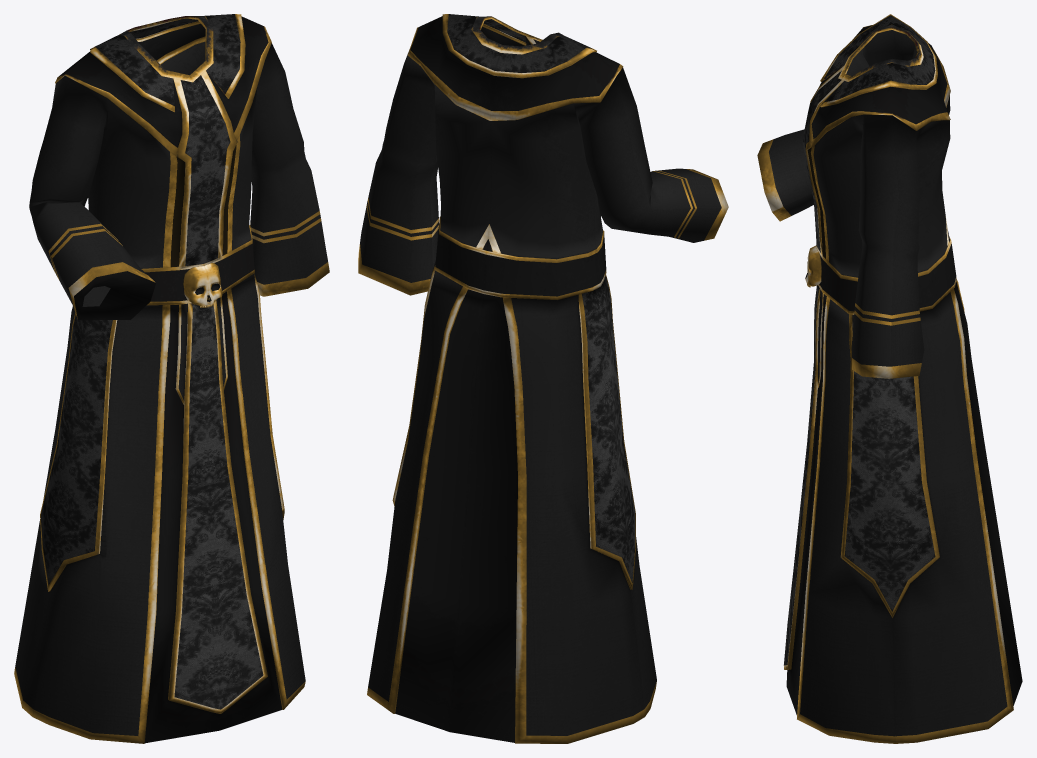
File: RMRobe.glb
3 views of the same model, side by side, from view 1: azimuth 30°, elevation 25°; view 2: azimuth 150°, elevation 25°; view 3: azimuth 270°, elevation 25° (orthographic). The views are drawn at different scales.
Visible parts, largest first — view 1: Robe; view 2: Robe; view 3: Robe.
Boxes of the visible parts, x1,y1,x2,y2 form: Robe: (14, 14, 329, 743); Robe: (358, 14, 728, 743); Robe: (757, 14, 1022, 743).
Size of what is drawn, in the model's own units: 1.05 by 2.14 by 0.7999.
Materials: 1 (1 with a texture image).
